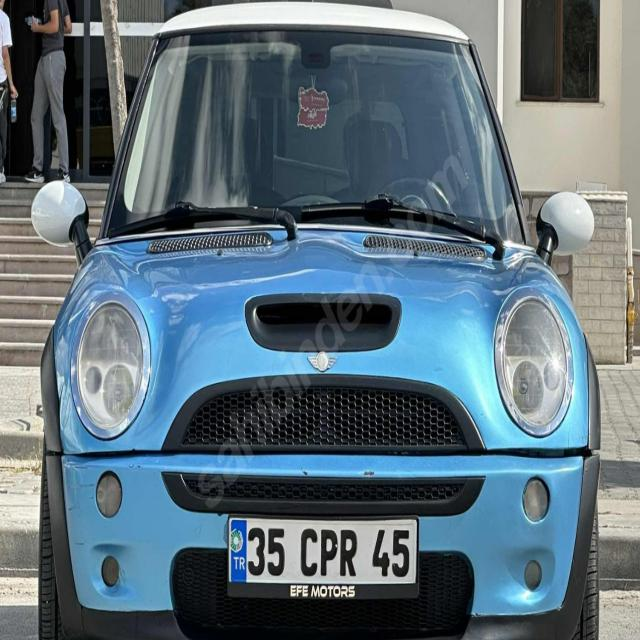mini: (306, 345, 338, 374)
